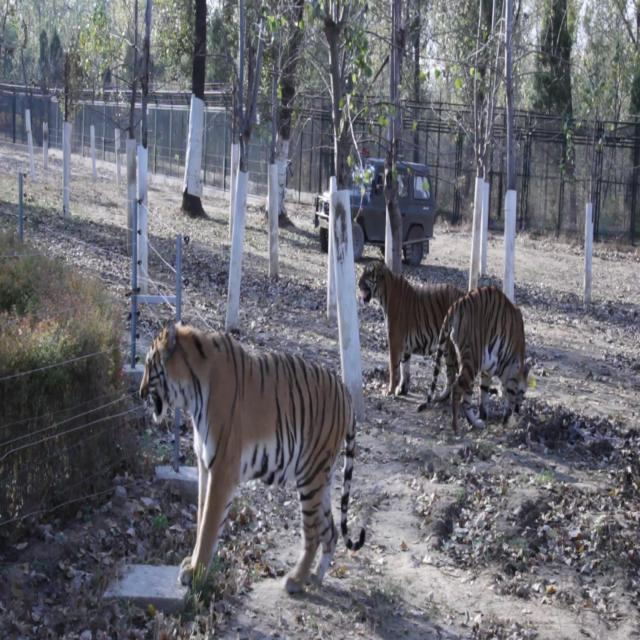Tiger: (155, 321, 371, 602), (426, 275, 538, 445), (353, 252, 459, 396)
